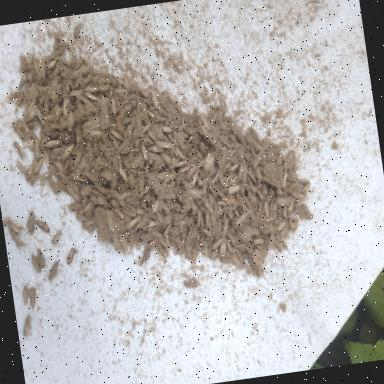pbw: (98, 100, 112, 132), (218, 213, 231, 241), (118, 224, 138, 242), (13, 61, 28, 85), (156, 238, 169, 264), (110, 188, 125, 210), (184, 222, 202, 240), (213, 188, 230, 207), (60, 141, 76, 161), (49, 144, 69, 160), (34, 242, 46, 268), (104, 206, 116, 232), (20, 314, 34, 336), (234, 160, 248, 182), (133, 214, 152, 230), (154, 136, 174, 151), (201, 152, 216, 172), (46, 261, 60, 282), (56, 177, 70, 198), (75, 92, 93, 108), (201, 194, 214, 216), (12, 90, 26, 110), (236, 190, 248, 213), (225, 161, 242, 177), (78, 200, 95, 216), (70, 169, 88, 184), (68, 152, 83, 170), (263, 175, 281, 190), (46, 176, 61, 194), (66, 184, 80, 203), (86, 186, 105, 200), (250, 206, 264, 225), (32, 152, 44, 174), (20, 118, 32, 140), (232, 242, 254, 254), (7, 219, 24, 234), (13, 140, 27, 158), (10, 121, 22, 142), (178, 221, 190, 242), (78, 182, 96, 196), (60, 95, 70, 120), (16, 118, 26, 143), (78, 182, 88, 207), (27, 288, 38, 310), (64, 246, 76, 266), (125, 214, 141, 229), (51, 169, 66, 185), (182, 276, 202, 288), (273, 236, 285, 256), (63, 200, 83, 212), (95, 211, 105, 235), (217, 144, 229, 164), (233, 210, 247, 227), (48, 46, 65, 60), (92, 179, 106, 196), (136, 250, 149, 268), (42, 147, 53, 168), (36, 124, 46, 147), (278, 233, 290, 252), (188, 168, 200, 187), (62, 154, 74, 173), (3, 89, 18, 104), (97, 194, 112, 209), (35, 168, 51, 182), (110, 126, 124, 142), (14, 158, 28, 174), (53, 128, 67, 144), (130, 152, 144, 168), (284, 197, 297, 214), (218, 238, 229, 258), (90, 66, 101, 86), (71, 18, 82, 38), (250, 150, 262, 168), (74, 210, 92, 222), (108, 171, 120, 189), (188, 204, 200, 222), (209, 109, 223, 124), (246, 188, 257, 207), (213, 220, 224, 239), (136, 94, 152, 107), (120, 141, 136, 154), (150, 89, 160, 109), (222, 171, 232, 191), (205, 187, 215, 207), (114, 149, 124, 169), (34, 102, 44, 122), (206, 179, 216, 199), (115, 115, 125, 135), (97, 91, 106, 113), (235, 224, 246, 242), (111, 230, 120, 252), (214, 177, 225, 195), (147, 144, 165, 155), (36, 220, 50, 234), (46, 56, 60, 70), (226, 193, 240, 207), (210, 168, 222, 184), (50, 229, 62, 245), (146, 128, 158, 144), (44, 138, 60, 150), (22, 136, 34, 152), (278, 222, 290, 238), (194, 209, 204, 228), (140, 103, 150, 122), (118, 231, 128, 250), (266, 231, 276, 250), (26, 51, 36, 70), (72, 181, 82, 200), (33, 59, 42, 80), (117, 189, 131, 202), (152, 156, 166, 169), (72, 57, 86, 70), (121, 206, 135, 219), (170, 234, 183, 248), (72, 63, 86, 76), (146, 107, 160, 120), (209, 237, 224, 249), (32, 140, 42, 158), (31, 253, 40, 273), (41, 96, 51, 114), (140, 160, 150, 178), (187, 186, 202, 198), (24, 102, 36, 117), (68, 51, 78, 69), (166, 92, 176, 110), (140, 134, 155, 146), (190, 102, 200, 120), (111, 149, 119, 171), (226, 230, 237, 246), (156, 170, 172, 181), (231, 252, 242, 268), (149, 196, 159, 213), (210, 218, 220, 235), (242, 192, 252, 209), (57, 89, 70, 102), (42, 127, 55, 140), (168, 156, 181, 169), (124, 201, 137, 214), (288, 210, 302, 222), (116, 140, 128, 154), (36, 92, 48, 106), (174, 170, 186, 184), (294, 204, 306, 218), (28, 172, 40, 186), (130, 165, 145, 176), (285, 212, 294, 230), (134, 114, 143, 132), (121, 152, 130, 170), (22, 286, 30, 306), (160, 151, 170, 167), (162, 222, 172, 238), (248, 168, 258, 184), (51, 105, 61, 121), (200, 116, 210, 132), (20, 52, 28, 72), (128, 116, 138, 132), (168, 218, 178, 234), (179, 108, 189, 124), (220, 118, 230, 134), (134, 94, 142, 114), (124, 196, 140, 206), (54, 78, 64, 94), (192, 232, 200, 252), (302, 202, 312, 218), (50, 34, 60, 50), (169, 122, 185, 132), (246, 136, 256, 152), (24, 166, 34, 182), (23, 84, 33, 100), (159, 91, 169, 107), (82, 216, 98, 226), (156, 210, 166, 226), (161, 122, 174, 134), (88, 193, 100, 206), (226, 184, 240, 195), (53, 160, 64, 174), (152, 89, 166, 100), (146, 150, 160, 161), (113, 216, 127, 227), (219, 255, 233, 266), (154, 126, 165, 140), (72, 75, 83, 89), (38, 60, 46, 79), (163, 236, 171, 255), (17, 54, 25, 73), (185, 132, 200, 142), (151, 114, 166, 124), (31, 130, 41, 145), (110, 97, 118, 115), (160, 174, 172, 186), (68, 88, 84, 97), (246, 176, 254, 194), (150, 227, 162, 239), (287, 178, 299, 190), (74, 126, 82, 144), (65, 114, 73, 132), (262, 223, 274, 235), (45, 68, 54, 84), (132, 174, 140, 192), (262, 232, 271, 248), (56, 54, 68, 66), (116, 108, 128, 120), (140, 120, 152, 132), (186, 146, 198, 158), (200, 176, 208, 194), (260, 138, 272, 150), (98, 92, 110, 104), (133, 136, 142, 152), (184, 242, 192, 260), (223, 170, 235, 182), (66, 72, 74, 90), (136, 206, 148, 218), (210, 180, 219, 196), (157, 105, 168, 118), (220, 136, 231, 149), (16, 76, 26, 90), (176, 144, 186, 158), (92, 160, 106, 170), (33, 82, 43, 96), (216, 196, 223, 216), (84, 103, 98, 113), (240, 248, 254, 258), (194, 146, 204, 160), (290, 190, 304, 200), (280, 202, 288, 219), (149, 190, 157, 207), (105, 135, 114, 150), (250, 127, 259, 142), (280, 170, 287, 189), (113, 74, 124, 86), (26, 108, 37, 120), (243, 230, 254, 242), (196, 157, 208, 168), (209, 248, 221, 259), (50, 74, 62, 85), (272, 143, 284, 154), (146, 237, 156, 250), (177, 164, 190, 174), (176, 128, 189, 138), (100, 170, 113, 180), (50, 121, 63, 131), (138, 70, 148, 83), (107, 74, 117, 87), (157, 236, 167, 249), (282, 169, 292, 182), (131, 130, 144, 140), (202, 208, 210, 224), (180, 118, 188, 134), (200, 242, 208, 258), (120, 166, 128, 182), (292, 193, 308, 201), (267, 198, 275, 214), (138, 176, 146, 192), (114, 86, 130, 94), (58, 113, 66, 129), (77, 102, 85, 118), (209, 211, 217, 227), (288, 166, 296, 182), (221, 204, 237, 212), (256, 258, 264, 274), (82, 220, 96, 229), (50, 85, 57, 103), (218, 249, 232, 258), (235, 130, 244, 144), (89, 128, 103, 137), (116, 181, 130, 190), (89, 168, 98, 182), (255, 166, 262, 184), (181, 142, 190, 156), (249, 225, 260, 236), (175, 243, 186, 254), (190, 246, 196, 266), (85, 91, 97, 101), (185, 166, 197, 176), (142, 142, 148, 162), (274, 212, 284, 224), (82, 74, 94, 84), (144, 189, 152, 204), (162, 114, 172, 126), (177, 210, 189, 220), (186, 126, 198, 136), (26, 120, 38, 130), (42, 113, 54, 123), (169, 110, 181, 120), (277, 166, 284, 183), (160, 199, 169, 212), (213, 199, 219, 218), (174, 160, 188, 168), (72, 108, 80, 122), (291, 218, 299, 232), (60, 60, 68, 74), (177, 136, 185, 150), (247, 142, 255, 156), (256, 187, 264, 201), (99, 70, 107, 84), (258, 149, 266, 163), (56, 40, 70, 48), (92, 140, 99, 156), (104, 150, 112, 164), (199, 142, 207, 156), (201, 226, 212, 236), (227, 175, 239, 184), (302, 182, 311, 194), (138, 231, 150, 240), (32, 64, 38, 82), (274, 154, 283, 166), (127, 148, 136, 160), (255, 248, 264, 260), (226, 239, 233, 254), (260, 183, 267, 198), (84, 84, 97, 92), (146, 133, 154, 146), (62, 81, 70, 94), (140, 197, 148, 210), (144, 220, 157, 228), (208, 161, 216, 174), (170, 145, 178, 158), (286, 158, 296, 168), (142, 184, 152, 194), (226, 155, 237, 164), (40, 84, 51, 93), (27, 68, 34, 82), (228, 129, 235, 143), (52, 64, 60, 76), (298, 176, 310, 184), (237, 252, 245, 264), (120, 116, 132, 124), (78, 136, 86, 148), (104, 164, 116, 172), (128, 92, 140, 100), (166, 132, 174, 144), (181, 178, 189, 190), (142, 89, 150, 101), (238, 182, 246, 194), (270, 162, 276, 178), (219, 175, 226, 188), (264, 200, 270, 215), (276, 222, 286, 231), (170, 139, 176, 154), (134, 228, 144, 237), (105, 78, 114, 88), (284, 152, 294, 161), (170, 201, 181, 209), (121, 102, 132, 110), (239, 152, 250, 160), (252, 237, 264, 244), (139, 110, 146, 122), (98, 84, 110, 91), (68, 110, 74, 124), (98, 138, 104, 152), (254, 242, 264, 250), (45, 84, 53, 94), (59, 70, 67, 80), (256, 248, 266, 256), (84, 140, 92, 150), (272, 199, 278, 212), (126, 124, 132, 137), (293, 198, 306, 204), (107, 88, 114, 99), (253, 182, 264, 189), (175, 100, 181, 112), (70, 130, 76, 142), (280, 151, 286, 163), (232, 207, 239, 217), (224, 160, 231, 170), (120, 98, 130, 105), (129, 98, 136, 108), (123, 76, 128, 88), (230, 148, 237, 156), (110, 200, 118, 207), (128, 78, 133, 88), (266, 216, 274, 222), (197, 178, 203, 186), (103, 90, 110, 96), (110, 122, 117, 128), (226, 146, 231, 154)
